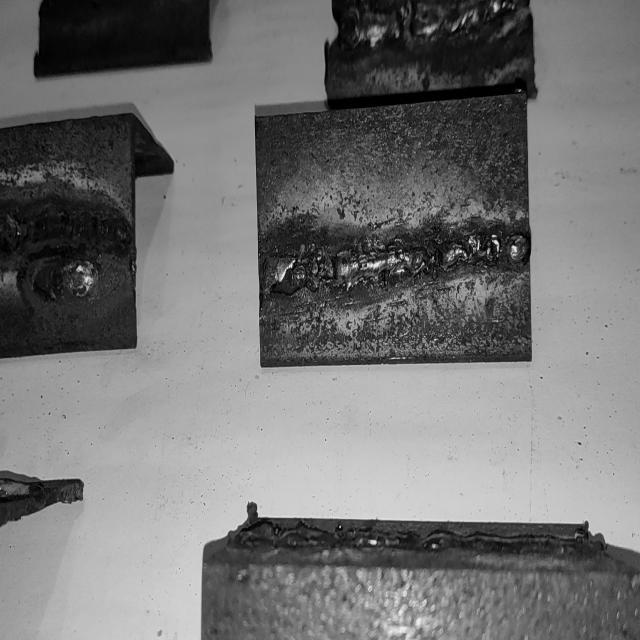Defect: (0, 198, 127, 297), (410, 210, 517, 290), (309, 212, 344, 306)
Welding Line: (266, 224, 526, 294)
Workpiece: (256, 82, 531, 372), (0, 115, 141, 364)
